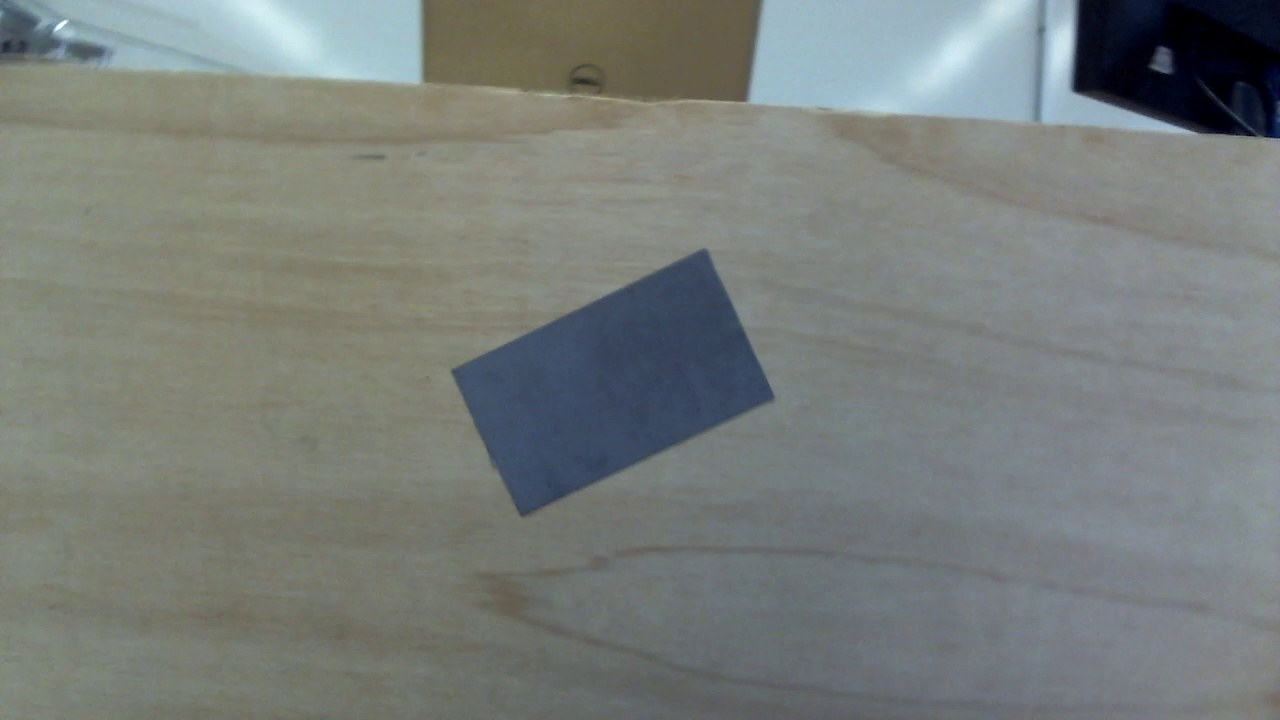Tape: (451, 251, 778, 516)
